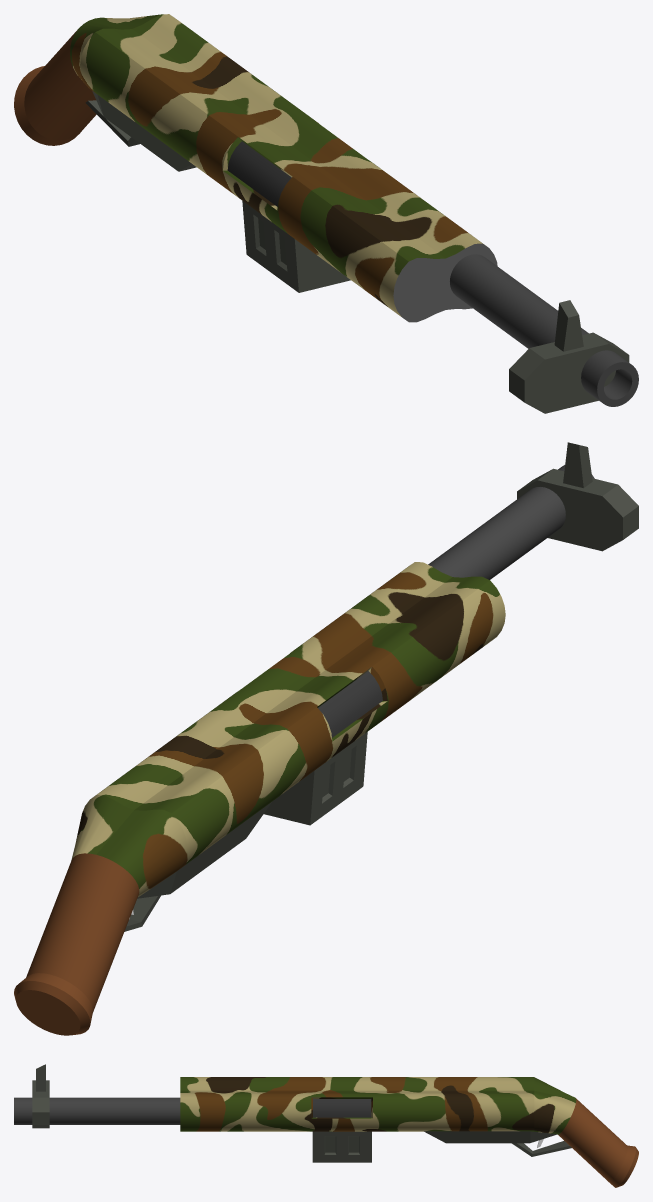
Rendered from shotgun.fbx.
3 views of the same model, one above another, from view 1: azimuth 30°, elevation 25°; view 2: azimuth 150°, elevation 25°; view 3: azimuth 270°, elevation 25° (orthographic). The views are drawn at different scales.
Parts seen in each view (by area): view 1: Cylinder; view 2: Cylinder; view 3: Cylinder.
Part boxes in pixels (x1,y1,x2,y2): Cylinder: [14, 14, 638, 413]; Cylinder: [14, 442, 638, 1035]; Cylinder: [14, 1064, 638, 1187].
Size of the model in its own units: 2 by 3.87 by 18.32.
2 materials, 1 textured.
